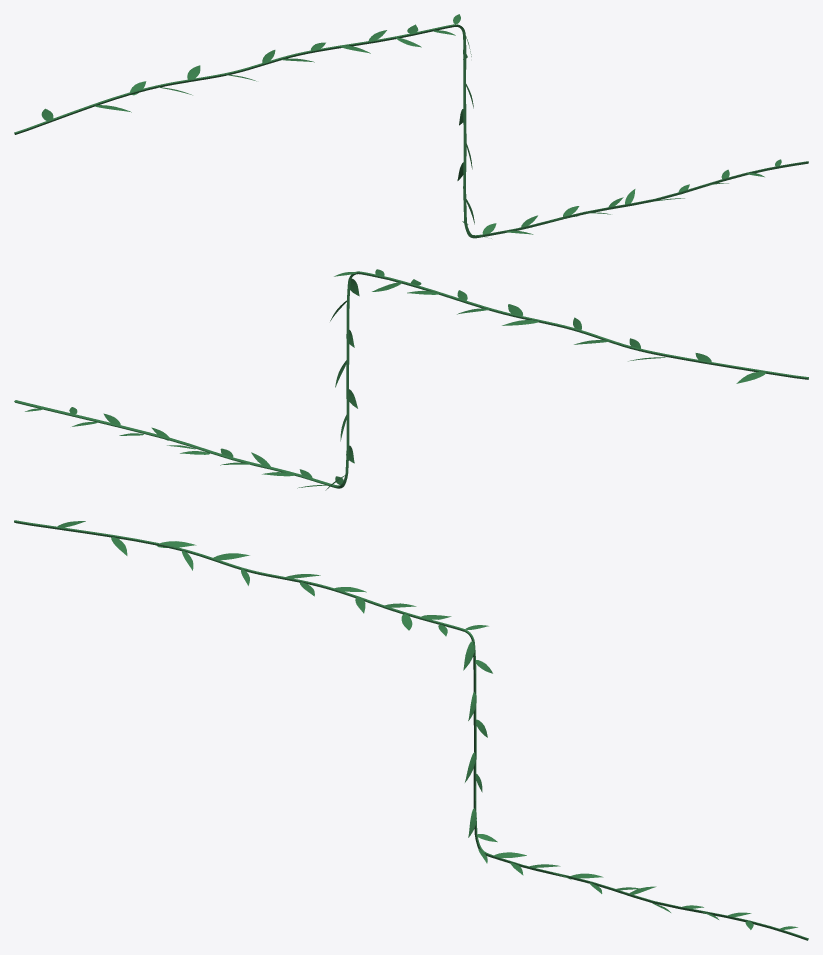
Rendered from vine_A_scanden_modular.fbx.
3 renders of one model, top to bottom at view 1: azimuth 30°, elevation 25°; view 2: azimuth 150°, elevation 25°; view 3: azimuth 330°, elevation 25°, orthographic.
Visible parts, largest first — view 1: vine_A_scanden_modular_root_A1, vine_A_scanden_modular_root_E, vine_A_scanden_modular_root_C1; view 2: vine_A_scanden_modular_root_A1, vine_A_scanden_modular_root_E, vine_A_scanden_modular_root_C1; view 3: vine_A_scanden_modular_root_A1, vine_A_scanden_modular_root_E.
Part boxes in pixels (box(x1,y1,x2,y2)): vine_A_scanden_modular_root_A1: box(14, 24, 453, 134); vine_A_scanden_modular_root_E: box(482, 161, 808, 236); vine_A_scanden_modular_root_C1: box(463, 38, 466, 222); vine_A_scanden_modular_root_A1: box(360, 271, 808, 379); vine_A_scanden_modular_root_E: box(14, 400, 330, 486); vine_A_scanden_modular_root_C1: box(345, 286, 350, 473); vine_A_scanden_modular_root_A1: box(14, 520, 462, 630); vine_A_scanden_modular_root_E: box(491, 855, 808, 940).
Bounding box in the file's own units: 667 × 179 × 52.48.
